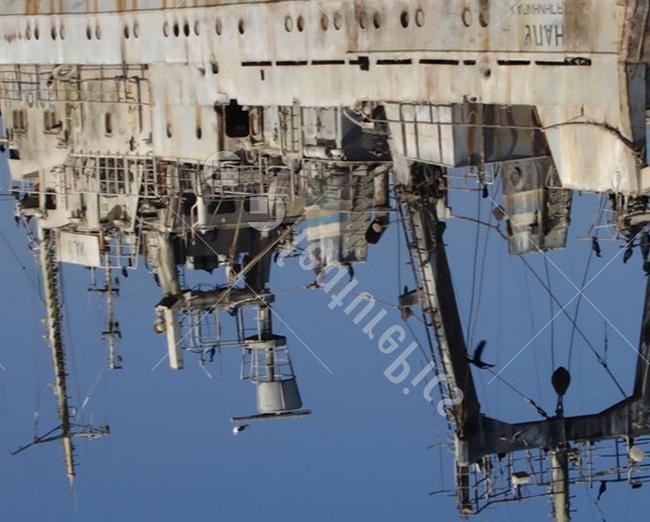rust: (17, 1, 281, 20), (609, 3, 641, 52), (185, 97, 211, 131)
